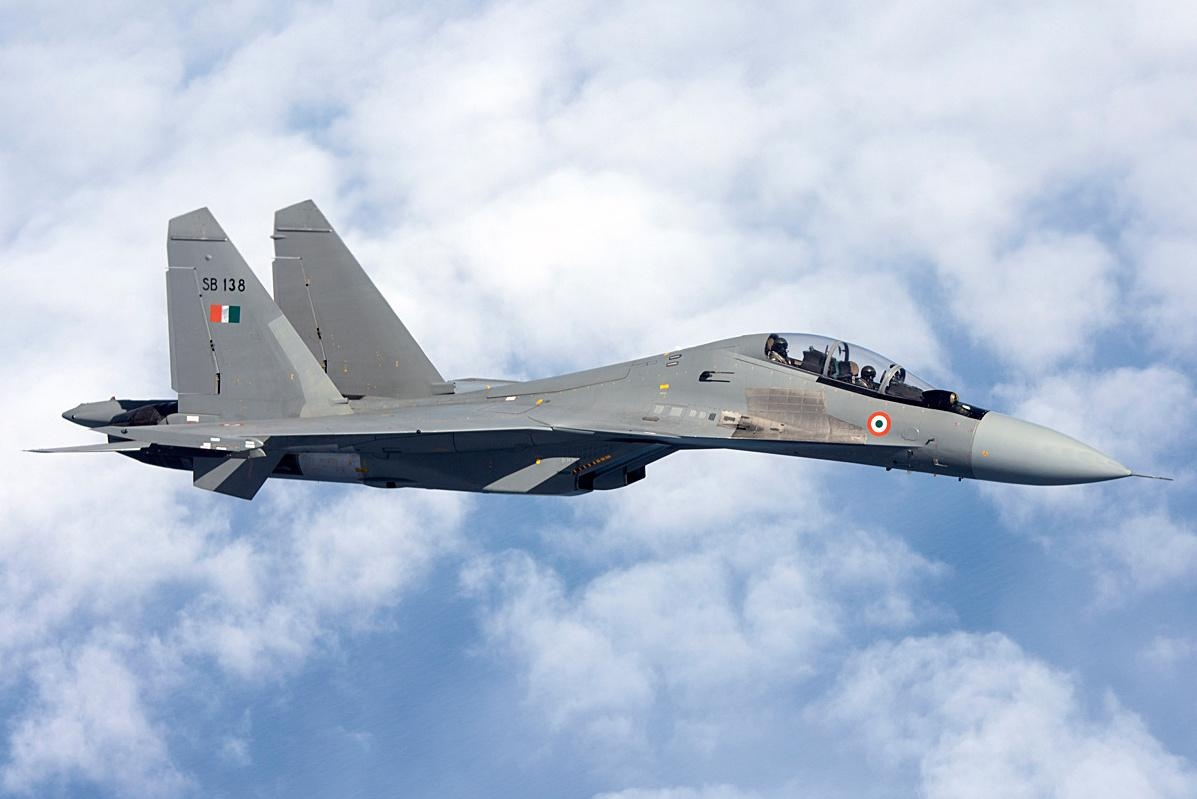aircraft: (41, 200, 1144, 505)
